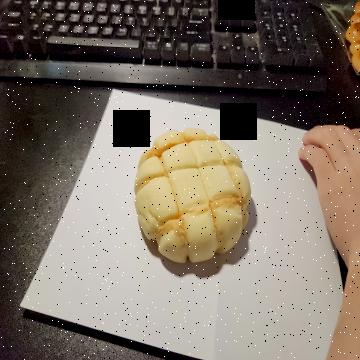melon_bread: (135, 129, 251, 262)
